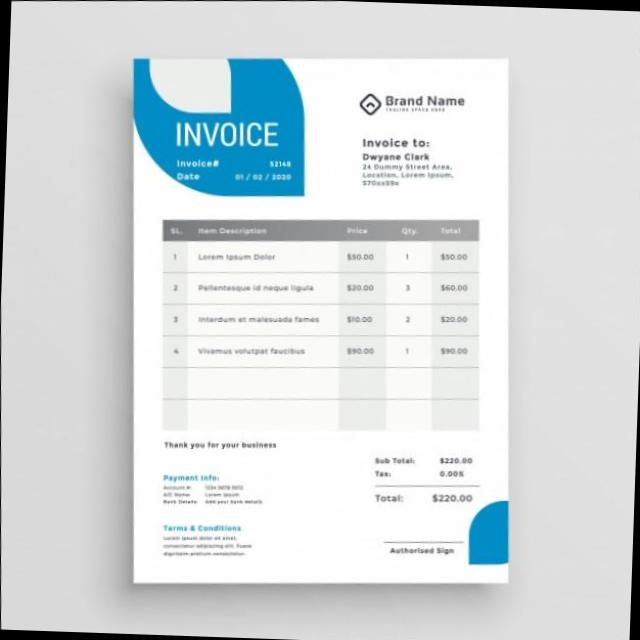customer_address: (357, 160, 462, 195)
customer_name: (358, 145, 442, 164)
invoice_date: (227, 169, 295, 185)
invoice_number: (266, 157, 296, 170)
invoice_subtotal: (437, 452, 480, 467)
invoice_total: (428, 488, 478, 508)
item_description: (190, 240, 330, 370)
item_quantity: (391, 246, 424, 362)
item_total_price: (428, 247, 476, 361)
item_unit_price: (338, 242, 382, 362)
supplier_name: (382, 88, 472, 110)
tax_rate: (434, 466, 472, 483)
